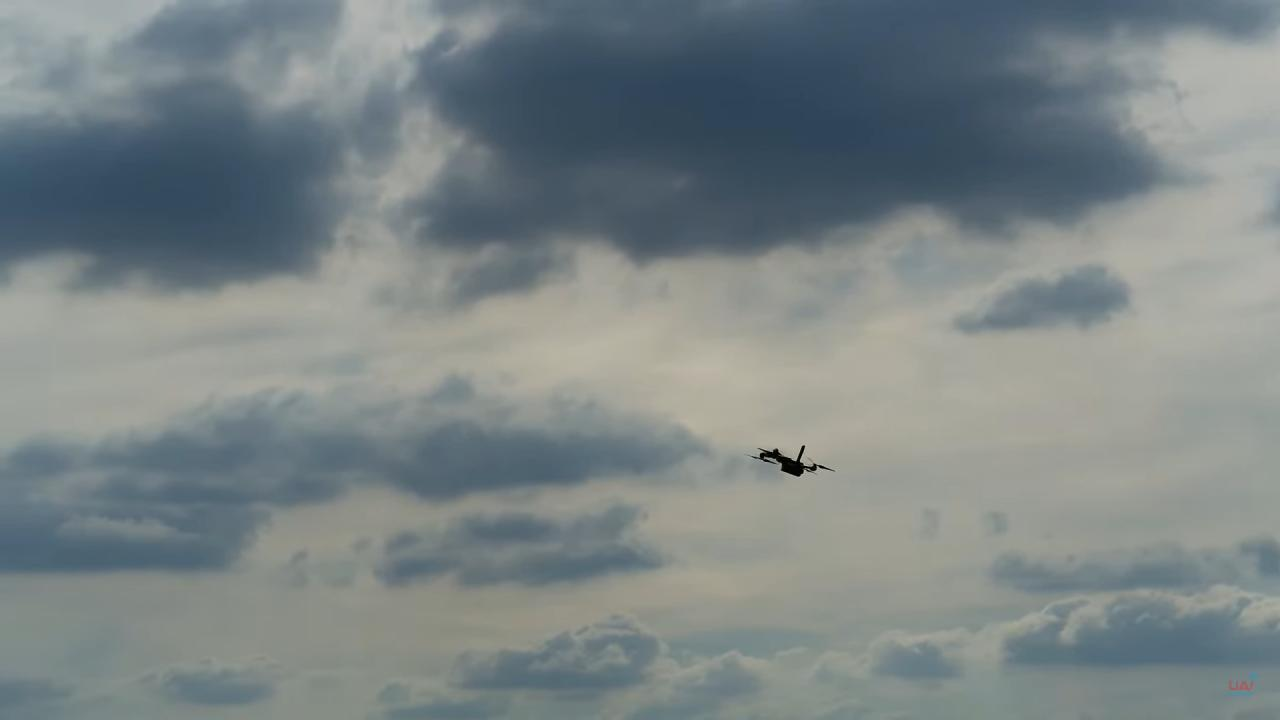Drone: (736, 432, 844, 488)
